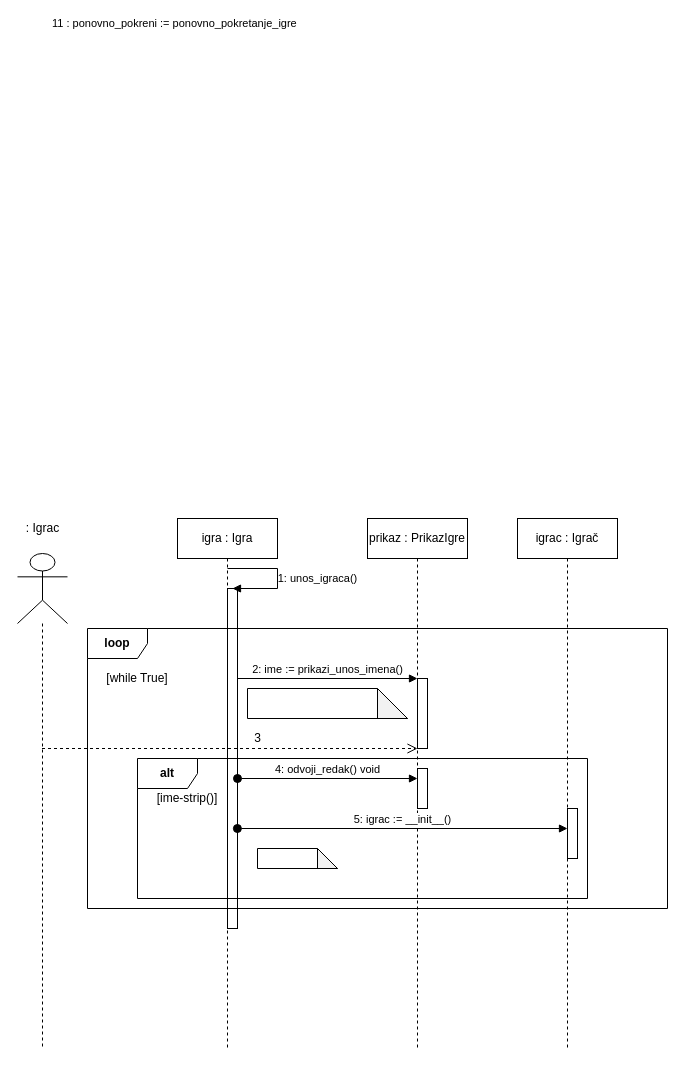
This 685x1066 diagram has some shape labels left out. The centre of each missing label's shape, as x and y in pixels:
break: point 297,858
Igrač unosi ime: point 327,703
